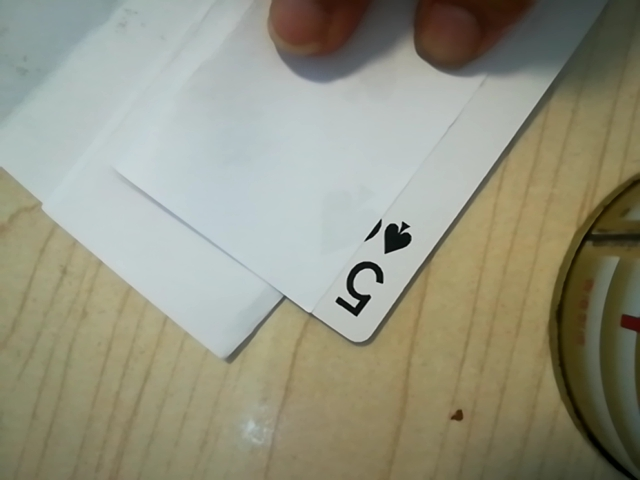ht 5: (323, 209, 420, 332)
